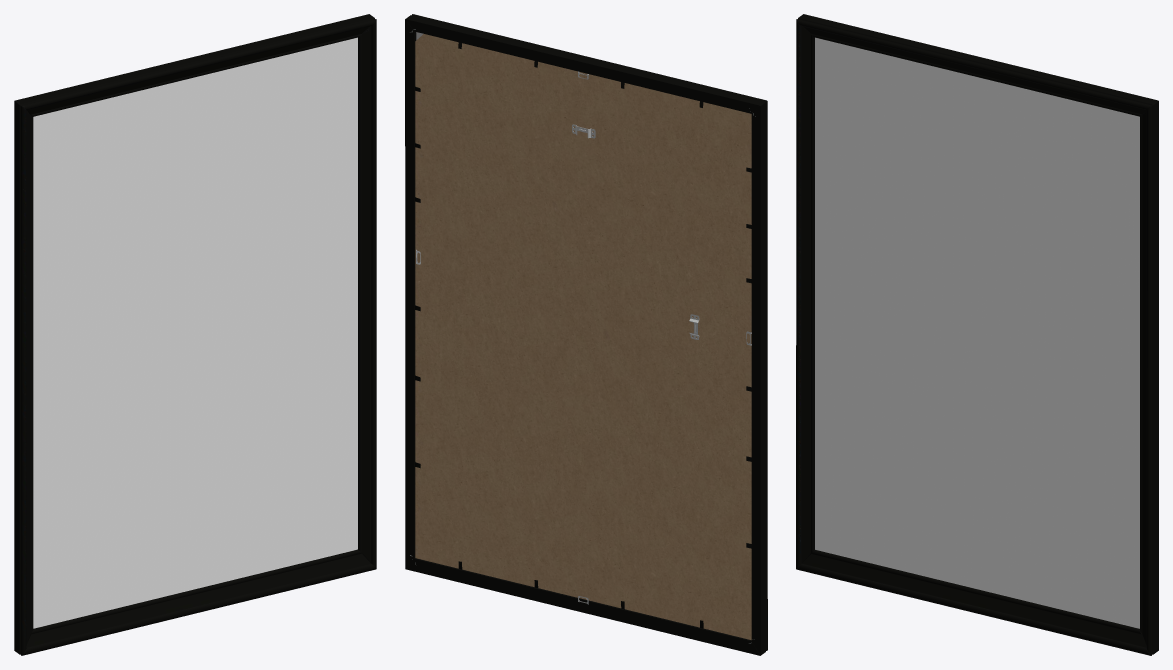
File: knoppang_ramka_10429652.glb
The picture shows the model from 3 angles, left to right: view 1: azimuth 30°, elevation 25°; view 2: azimuth 150°, elevation 25°; view 3: azimuth 330°, elevation 25°; orthographic projection.
Visible parts, largest first — view 1: knoppang_ramka_10429652; view 2: knoppang_ramka_10429652; view 3: knoppang_ramka_10429652.
Part boxes in pixels (x1=…): knoppang_ramka_10429652: x1=14, y1=14, x2=376, y2=655; knoppang_ramka_10429652: x1=405, y1=14, x2=767, y2=655; knoppang_ramka_10429652: x1=796, y1=14, x2=1158, y2=655.
Size of the model in its own units: 0.637 by 0.942 by 0.0263.
Materials: 2 (2 with a texture image).
